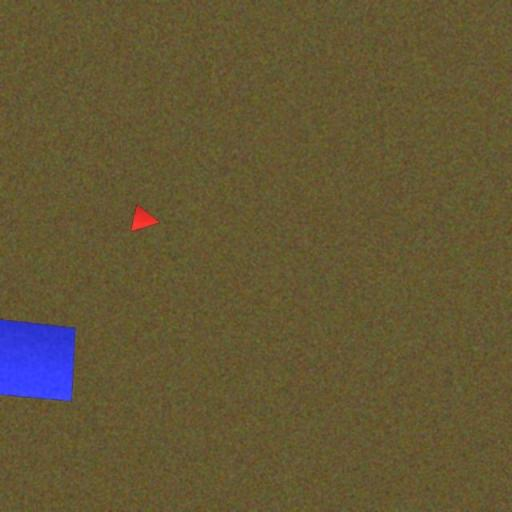BLUE_SQUARE: (0, 318, 76, 402)
